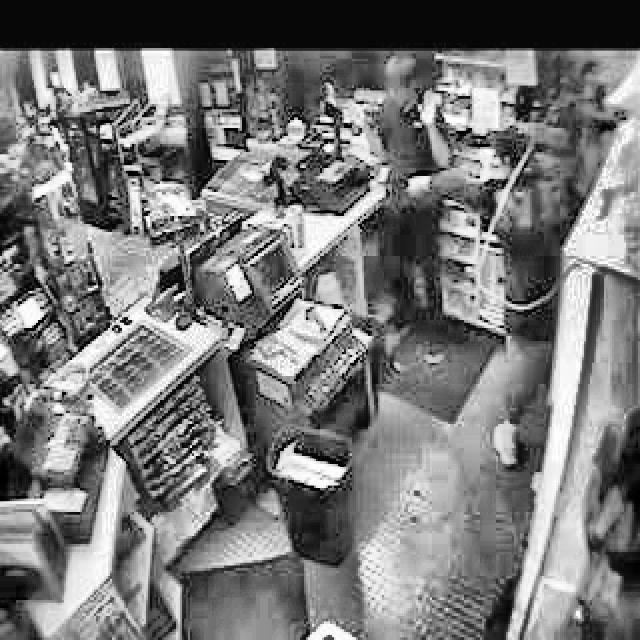robbery: (395, 113, 564, 320), (360, 51, 460, 174)
